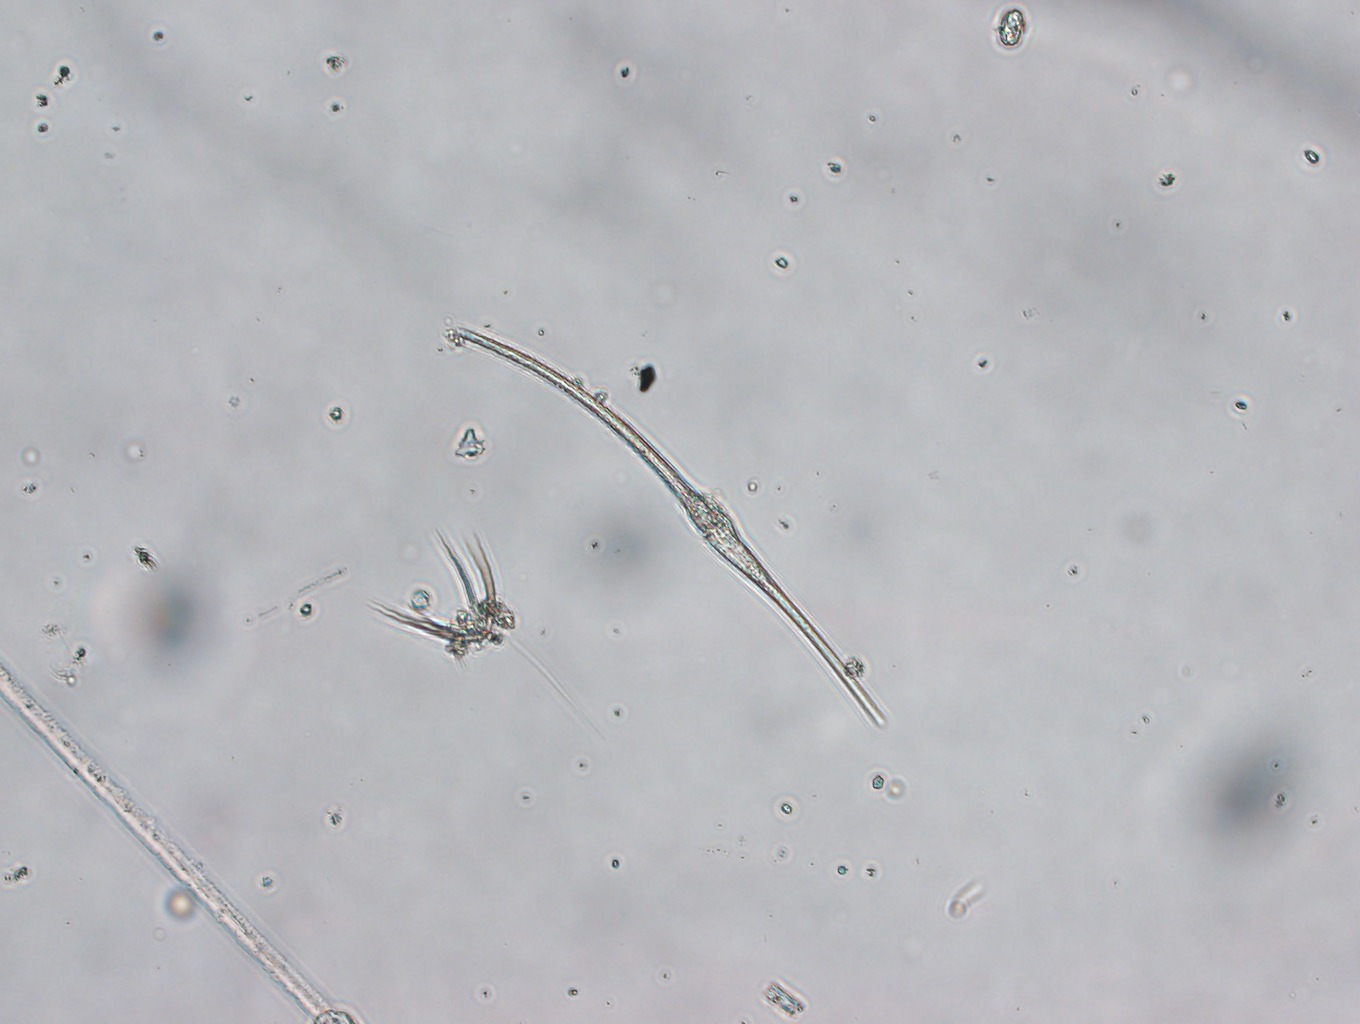ceratium fusus: (444, 322, 886, 730)
